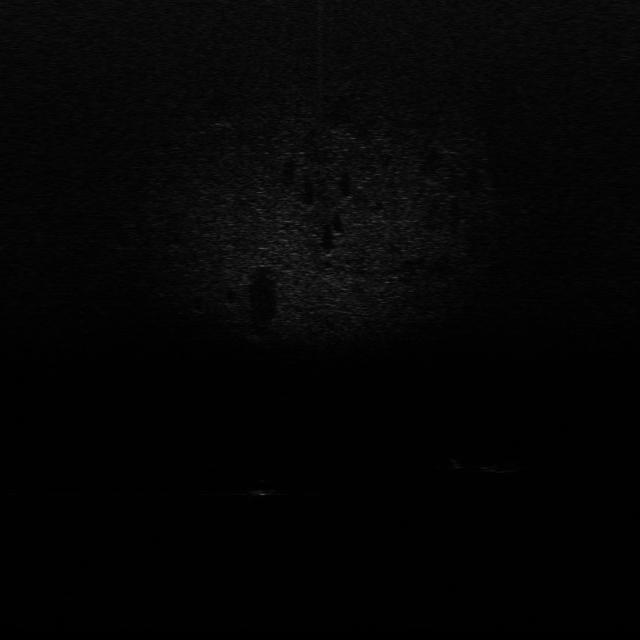ball: (248, 477, 280, 500)
human body: (438, 454, 536, 475)
